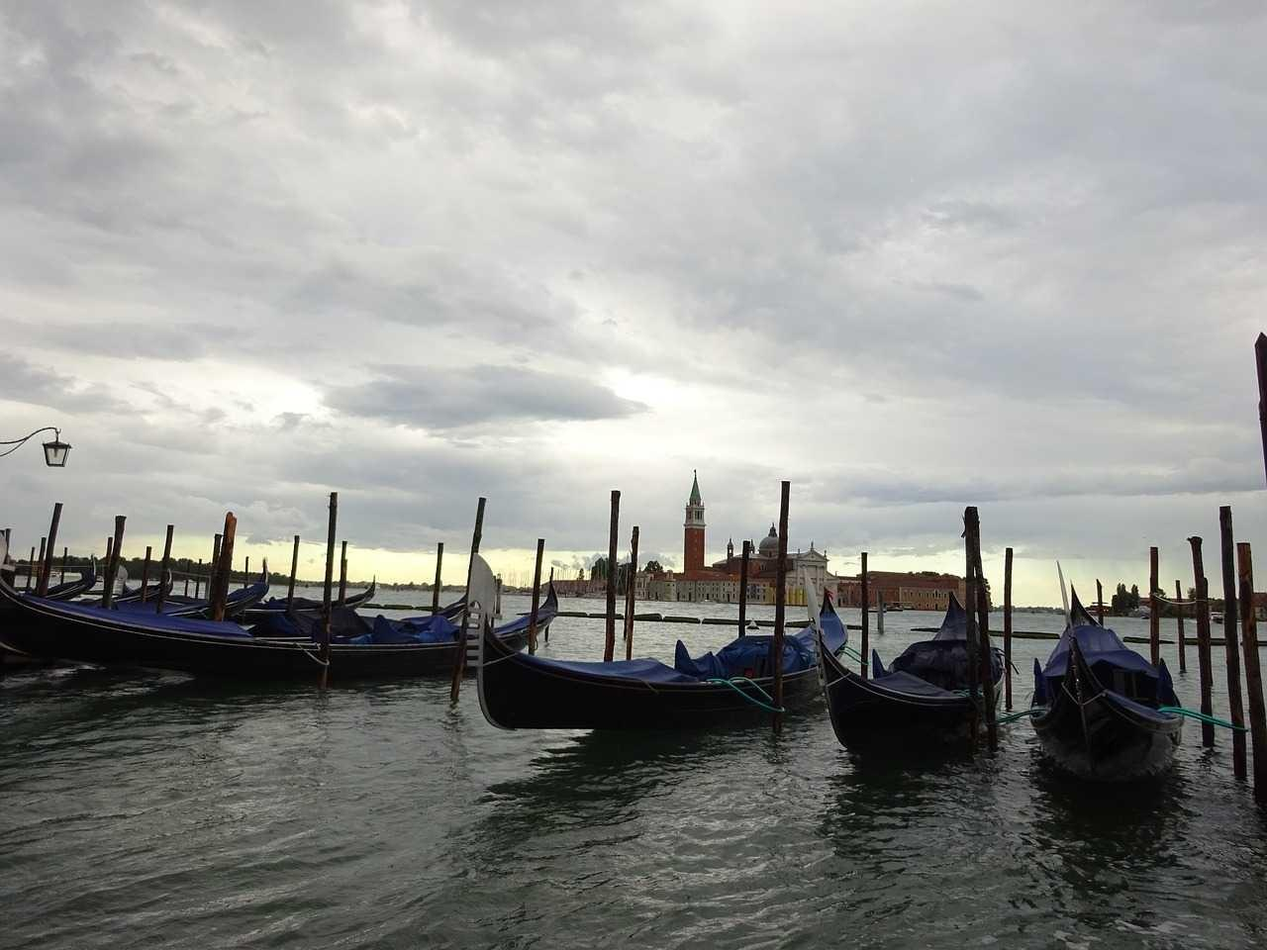kayak: (1, 582, 554, 691), (471, 615, 804, 732), (815, 571, 1005, 762), (1027, 560, 1183, 792)
